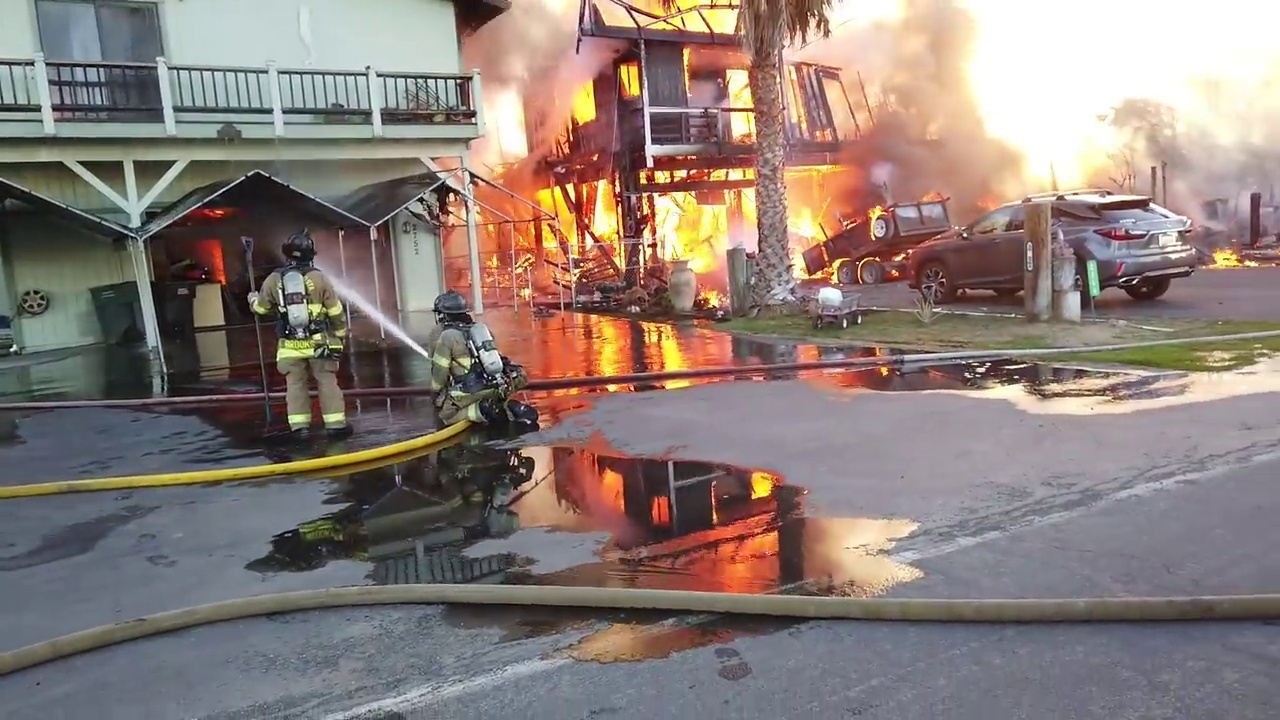fire: (534, 90, 620, 263), (642, 174, 730, 278), (453, 199, 533, 299), (791, 240, 886, 288), (776, 170, 838, 237), (1187, 243, 1260, 272), (697, 278, 723, 306), (973, 193, 1000, 214), (920, 188, 944, 202)
smoke: (839, 2, 1030, 203), (1157, 38, 1279, 229), (453, 1, 602, 144), (1019, 95, 1153, 189)
